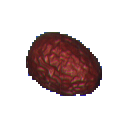gd: (17, 24, 109, 108)
